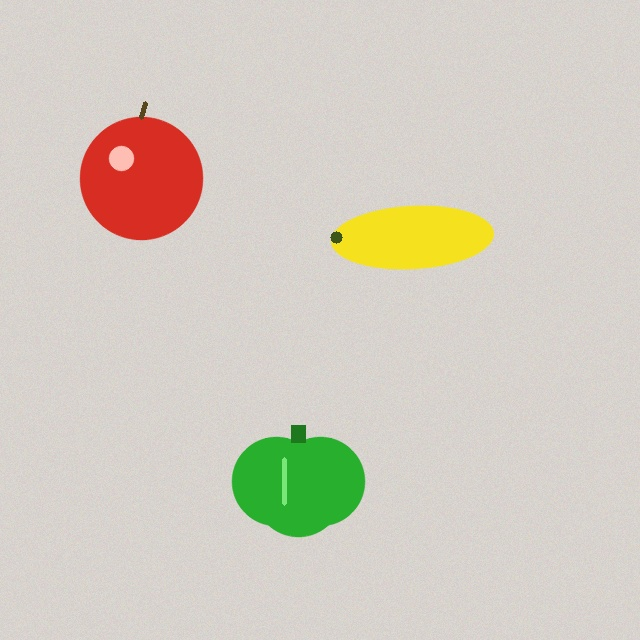Fresh apple: (80, 103, 202, 239)
Fresh banana: (327, 199, 497, 275)
Fresh bell pepper: (232, 425, 364, 536)
